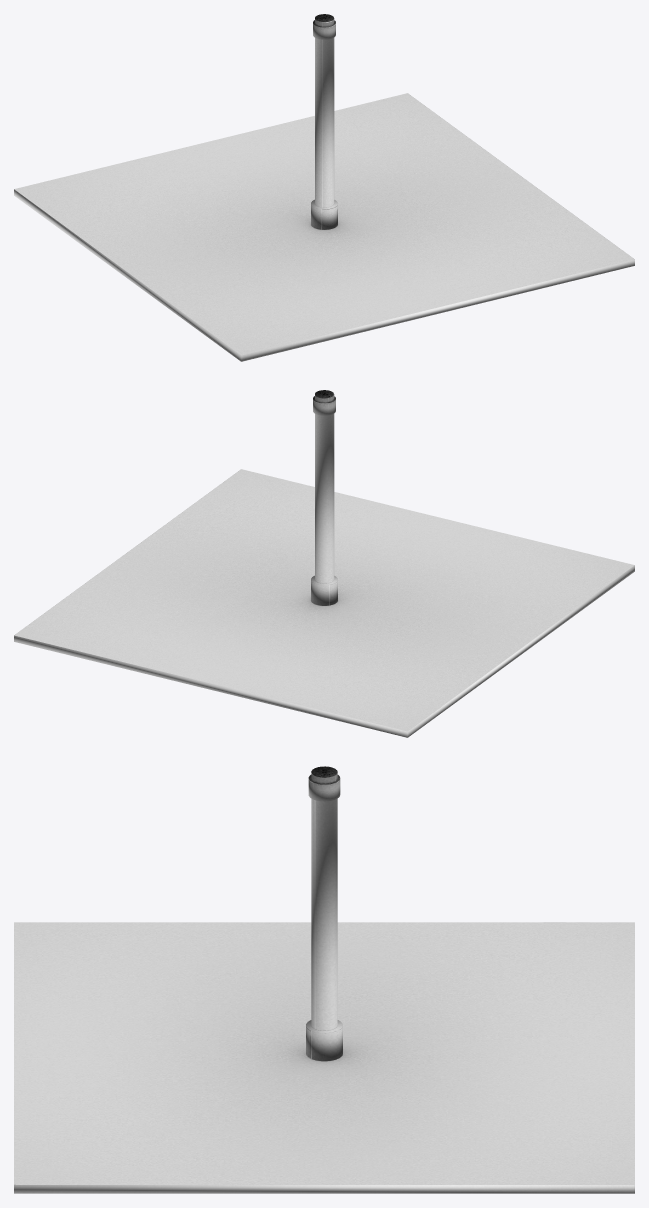
The model's file is solar_panel_bottom.obj.
The picture shows the model from 3 angles, top to bottom: view 1: azimuth 30°, elevation 25°; view 2: azimuth 150°, elevation 25°; view 3: azimuth 270°, elevation 25°; orthographic projection. The views are drawn at different scales.
Visible parts, largest first — view 1: panel_bottom_Cube; view 2: panel_bottom_Cube; view 3: panel_bottom_Cube.
Part boxes in pixels (x1,y1,x2,y2): panel_bottom_Cube: [14, 14, 634, 361]; panel_bottom_Cube: [14, 390, 634, 737]; panel_bottom_Cube: [14, 766, 634, 1193].
Bounding box in the file's own units: 2 × 1.03 × 2.
Materials: 1 (1 with a texture image).
